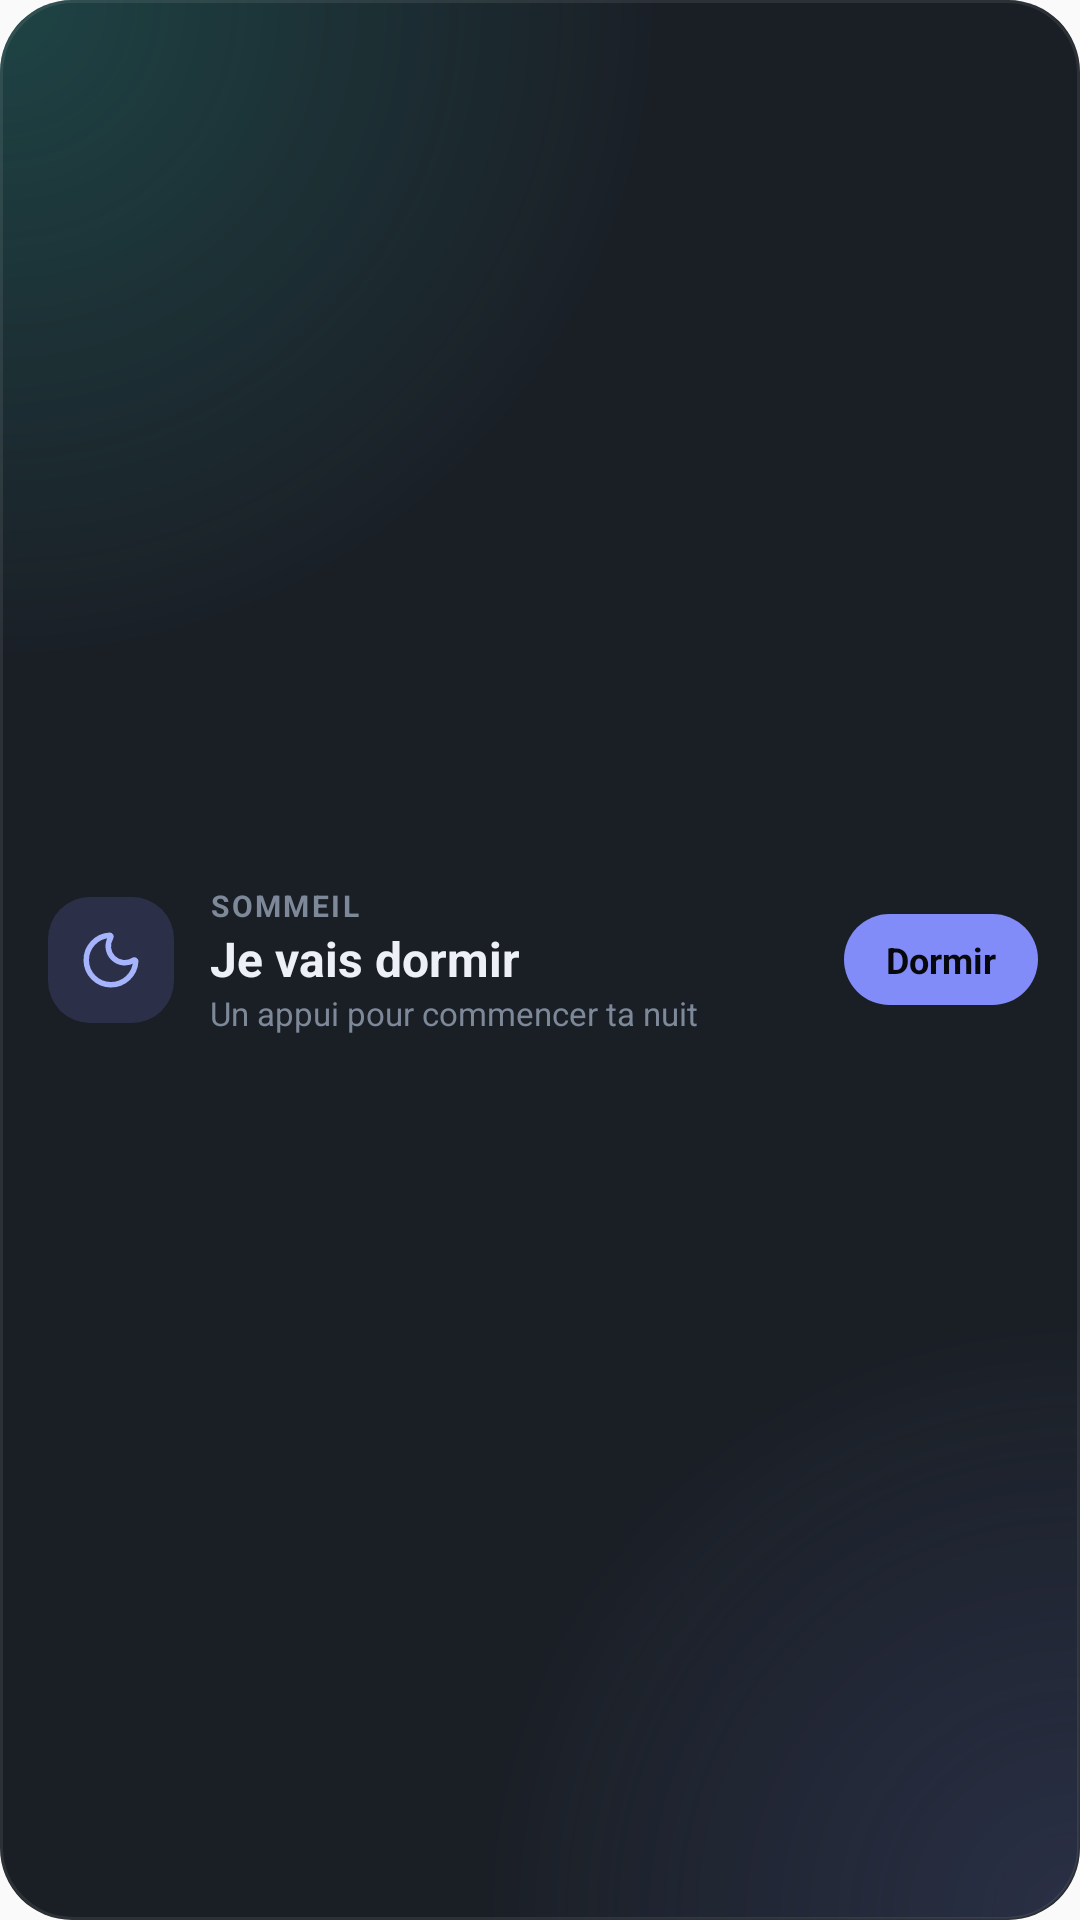

Point at icon controls on the screen. Image size 1080px×1920px, points as point (x, y).
moon: point (111, 960)
